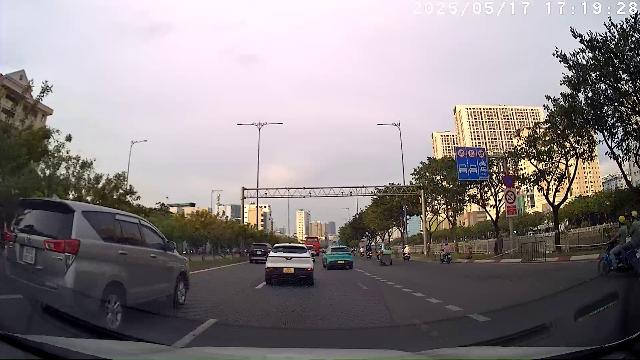127-toc-do-toi-da-50: (477, 149, 486, 158)
127-toc-do-toi-da-60: (456, 148, 466, 158), (467, 148, 476, 158)
130-cam-dung-va-do-xe: (502, 174, 515, 188)
